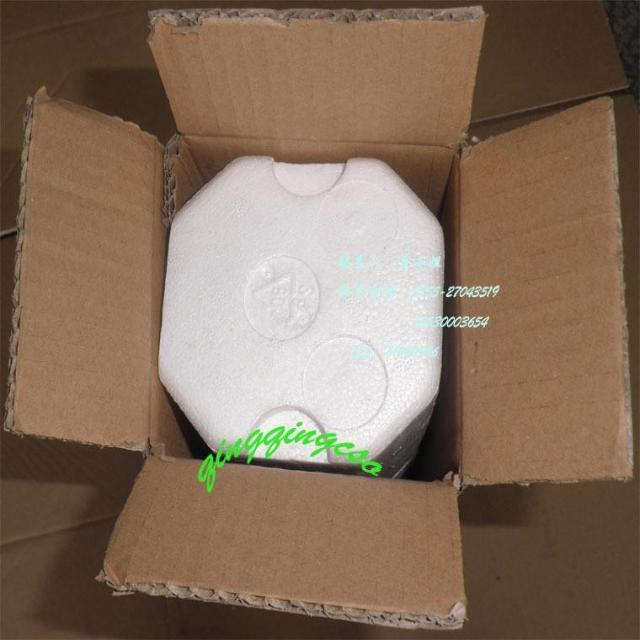styrofoam: (156, 152, 445, 479)
